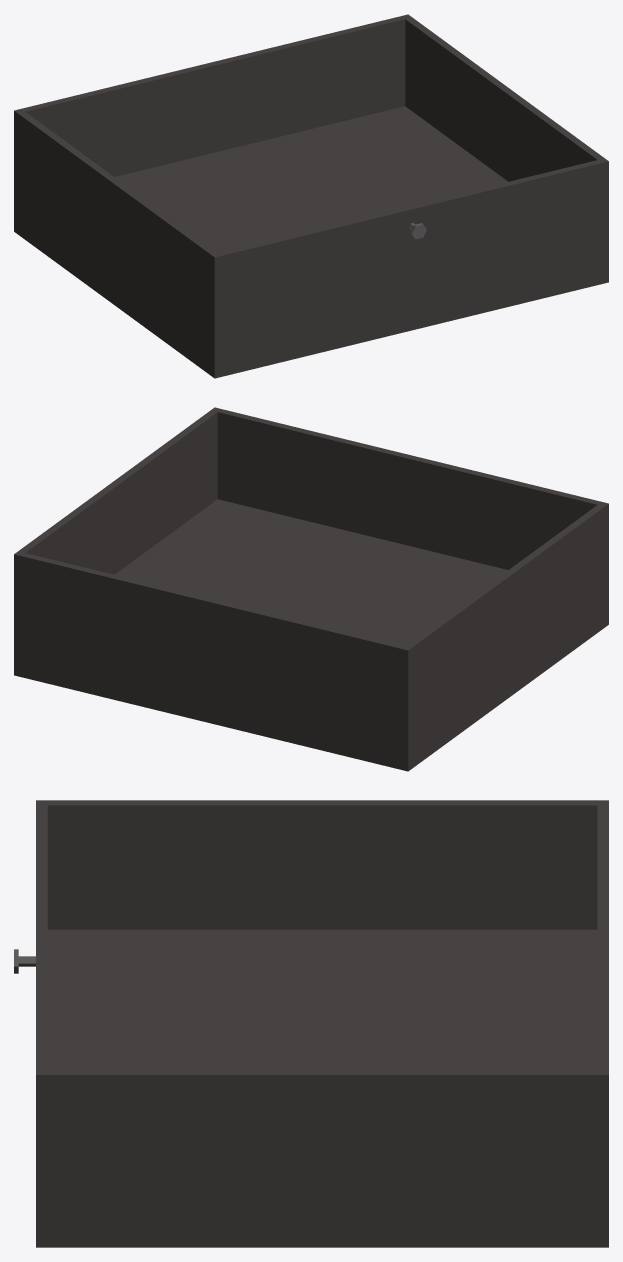
The model's file is Cupboard_20_02.fbx.
The picture shows the model from 3 angles, top to bottom: view 1: azimuth 30°, elevation 25°; view 2: azimuth 150°, elevation 25°; view 3: azimuth 270°, elevation 25°; orthographic projection. The views are drawn at different scales.
Parts seen in each view (by area): view 1: Cupboard_20_02; view 2: Cupboard_20_02; view 3: Cupboard_20_02.
Part boxes in pixels (x1,y1,x2,y2): Cupboard_20_02: [14, 14, 608, 378]; Cupboard_20_02: [14, 407, 608, 771]; Cupboard_20_02: [14, 800, 608, 1247].
Size of the model in its own units: 47.67 by 13.99 by 43.66.
